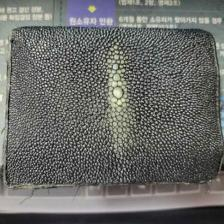phone: (8, 24, 222, 182), (8, 25, 118, 132)
